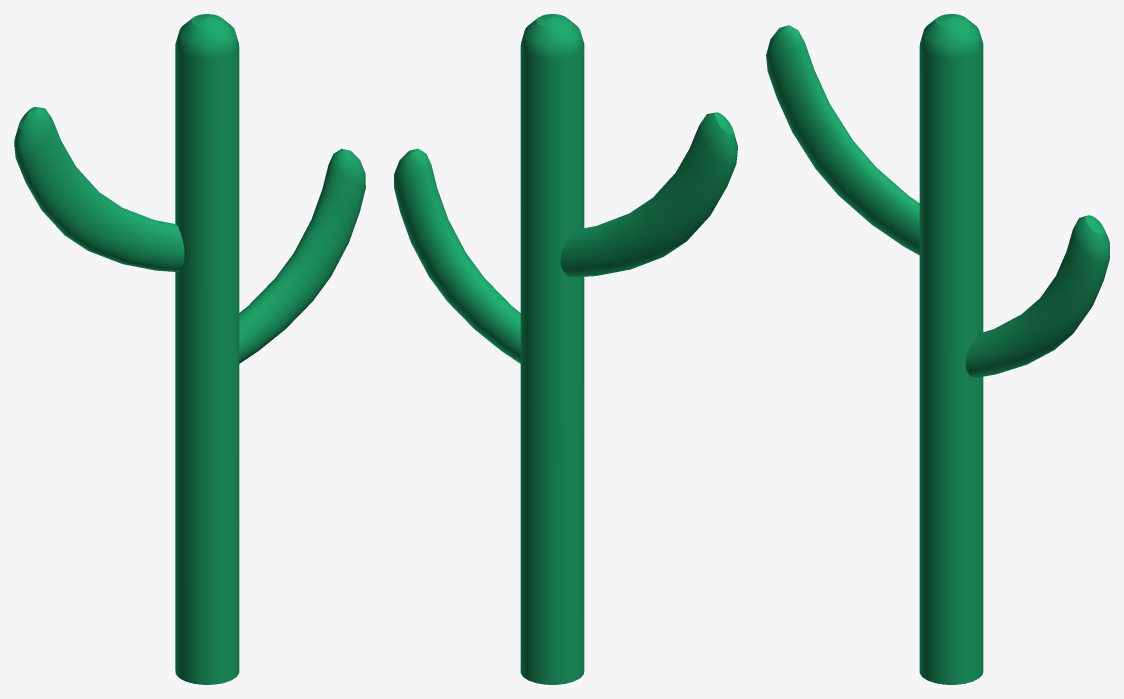
File: Cactus1Finished.fbx
3 views of the same model, side by side, from view 1: azimuth 30°, elevation 25°; view 2: azimuth 150°, elevation 25°; view 3: azimuth 330°, elevation 25° (orthographic).
Parts seen in each view (by area): view 1: pCylinder10; view 2: pCylinder10; view 3: pCylinder10.
Boxes of the visible parts, x1=… form: pCylinder10: x1=14, y1=14, x2=365, y2=684; pCylinder10: x1=394, y1=14, x2=737, y2=684; pCylinder10: x1=766, y1=14, x2=1109, y2=684.
Size of the model in its own units: 263 by 478 by 42.52.
